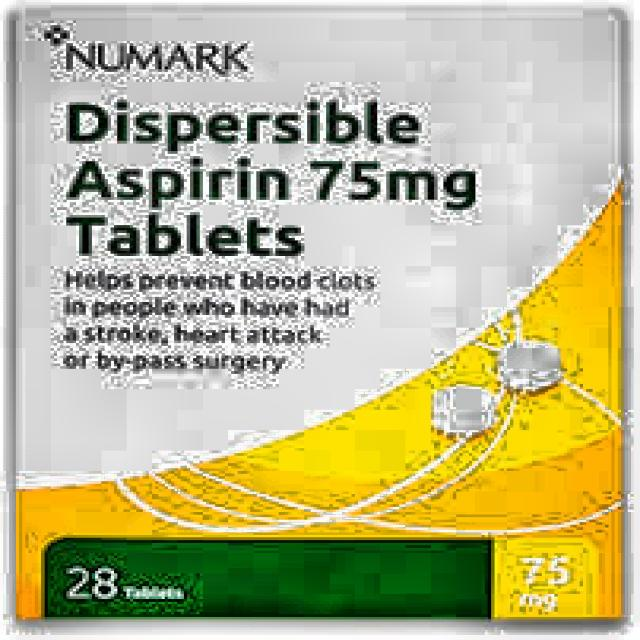Aspirin: (13, 25, 624, 622)
